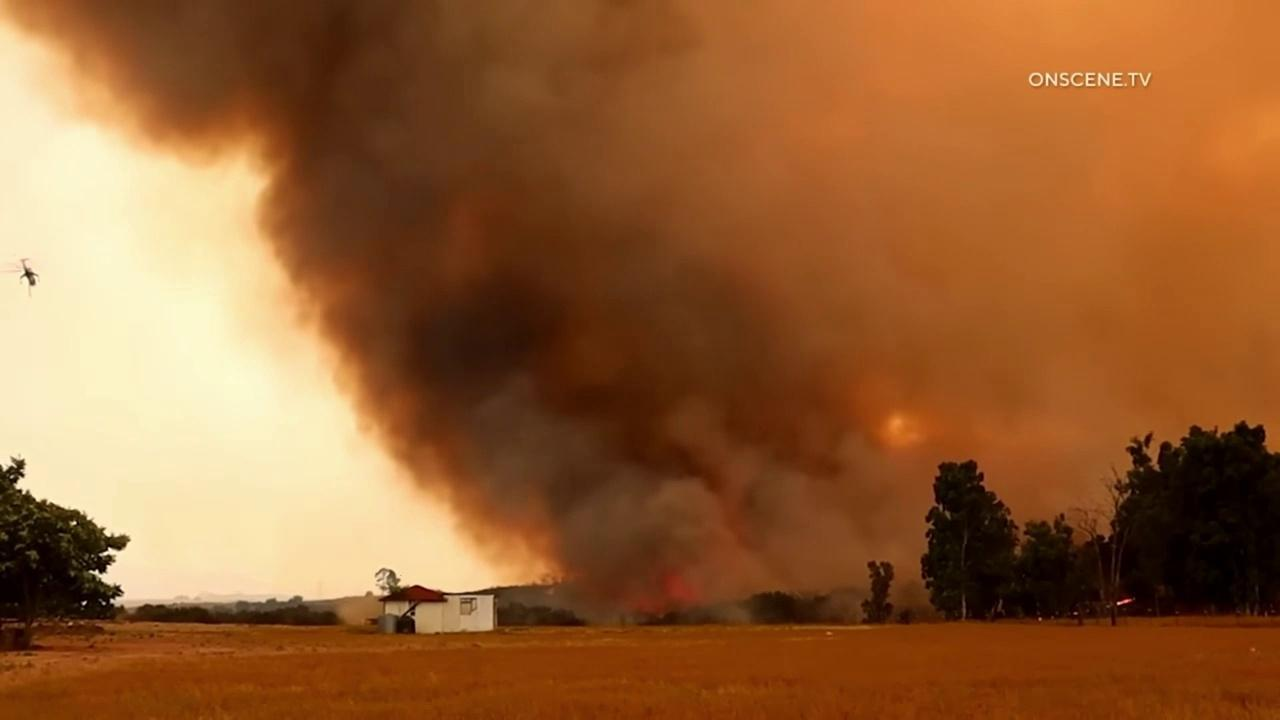fire: (1116, 598, 1134, 606)
smoke: (0, 0, 1280, 628), (334, 594, 384, 628)
